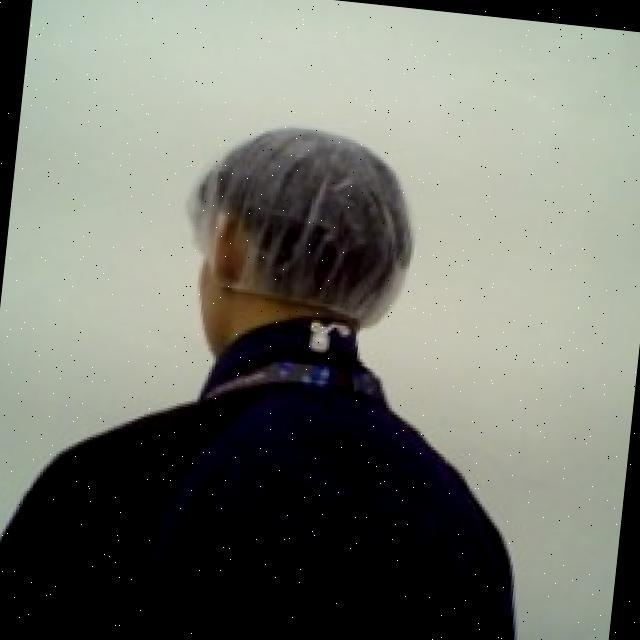gloves: (168, 107, 442, 328)
